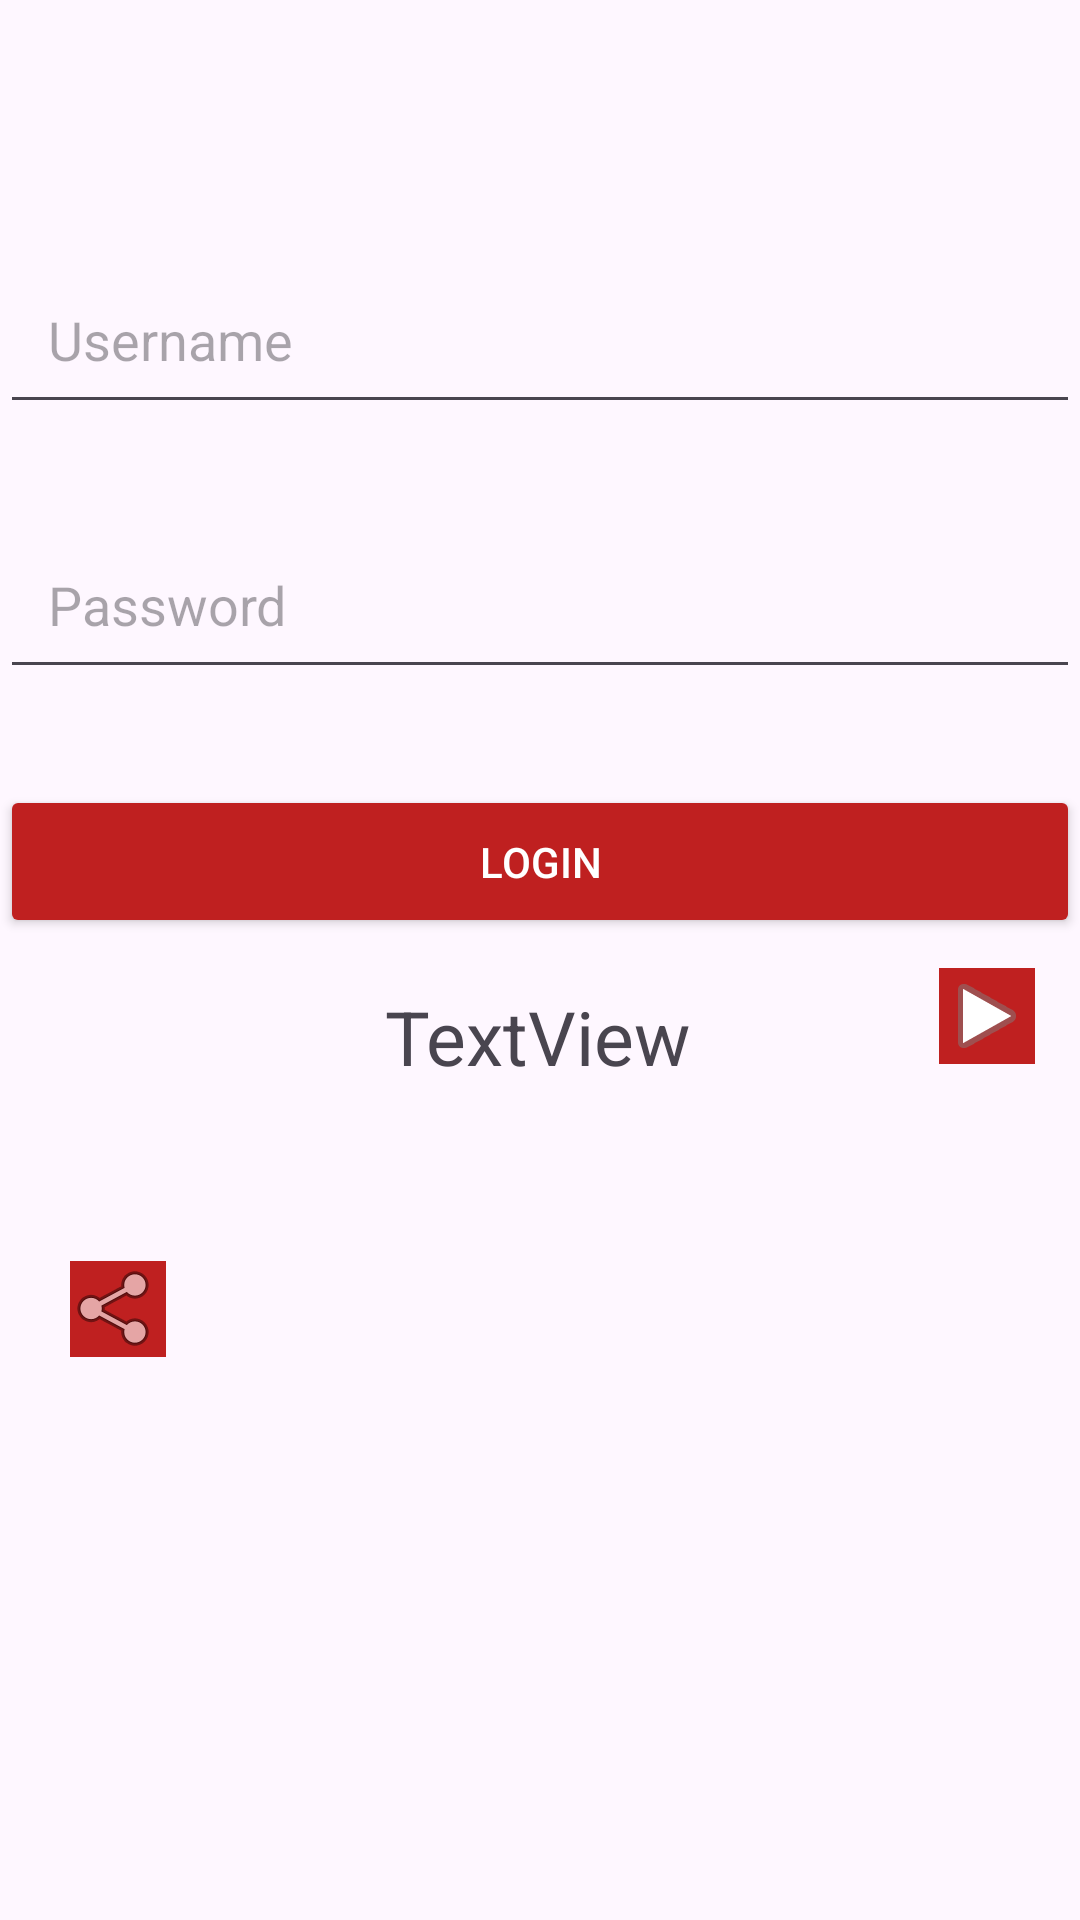

Screen size 1080 x 1920. Icon name, then its box in pixels as bbox=[x1, y1, x2, y2]:
play: bbox=[939, 968, 1035, 1064]
share: bbox=[70, 1261, 166, 1357]
